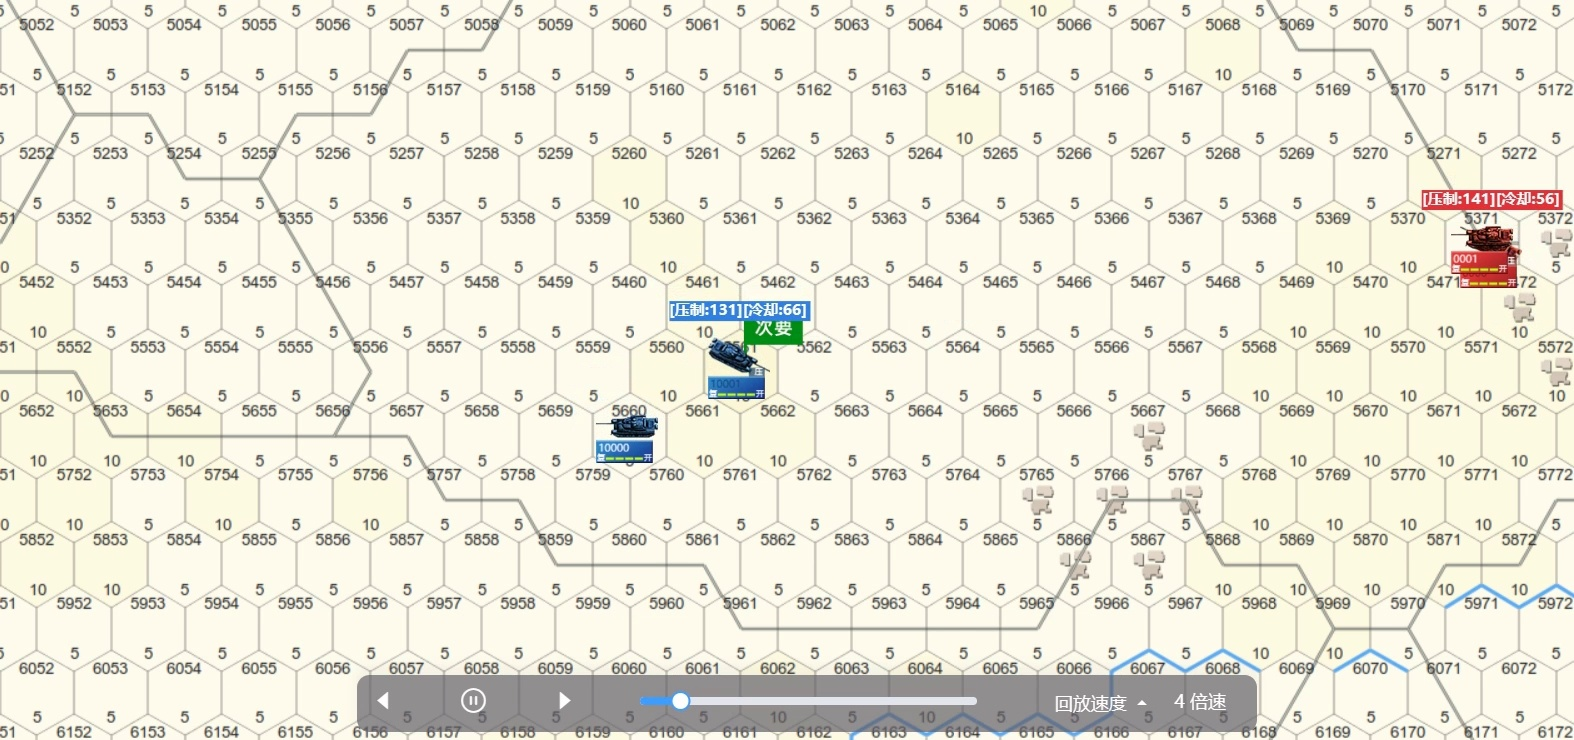blue_tank: (587, 408, 665, 464), (708, 335, 772, 395)
red_tank: (1456, 227, 1520, 292)
